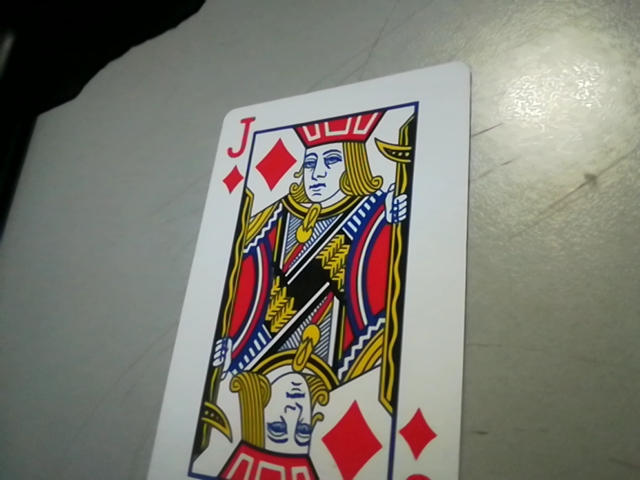fk j: (214, 112, 257, 191)
